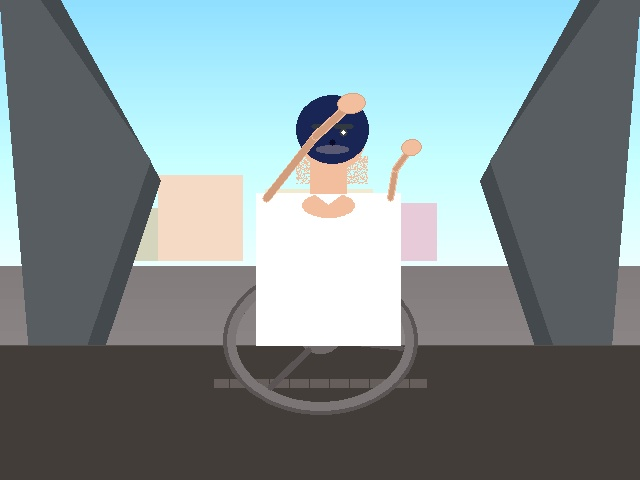hands_off_wheel: (332, 79, 370, 126)
